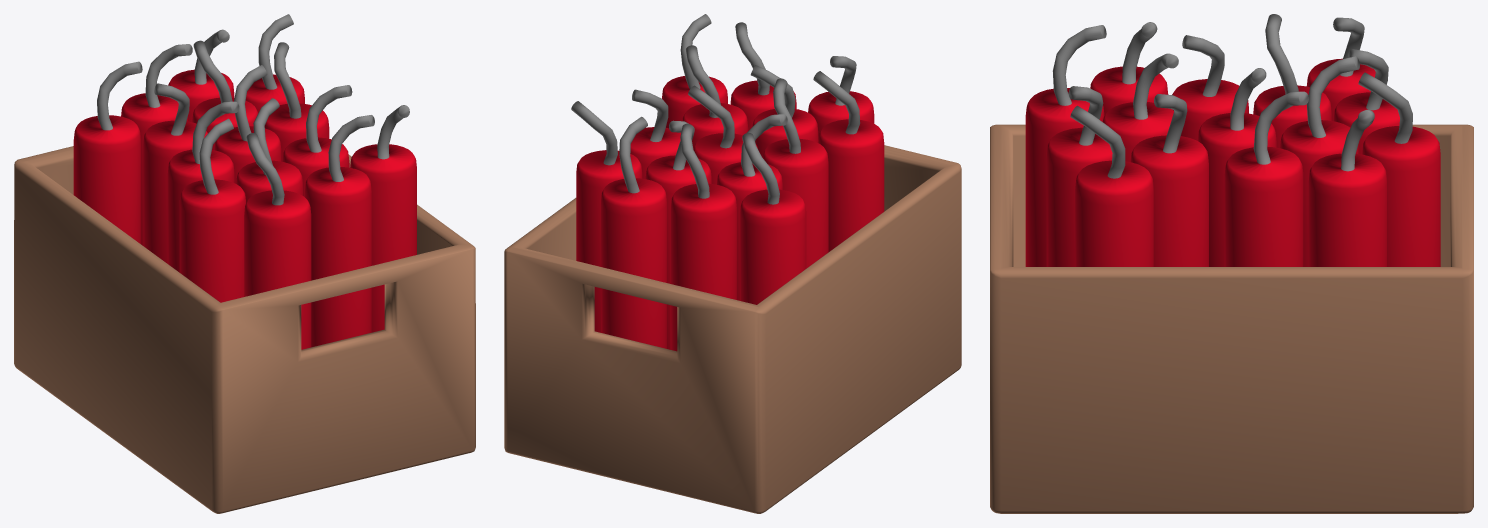
Rendered from OC_Dinamite_Transparent.fbx.
3 renders of one model, left to right at view 1: azimuth 30°, elevation 25°; view 2: azimuth 150°, elevation 25°; view 3: azimuth 270°, elevation 25°, orthographic. The views are drawn at different scales.
Parts seen in each view (by area): view 1: Cube, Cylinder.013, Cylinder.009, Cylinder.012, Cylinder.014, Cylinder.015, Cylinder.007, Cylinder.008, Cylinder.005, Cylinder.011, Cylinder.001, Cylinder (+4 smaller); view 2: Cube, Cylinder.004, Cylinder.005, Cylinder.014, Cylinder.009, Cylinder.008, Cylinder.003, Cylinder.007, Cylinder.002, Cylinder, Cylinder.001, Cylinder.015 (+4 smaller); view 3: Cube, Cylinder.001, Cylinder.003, Cylinder.004, Cylinder.015, Cylinder.011, Cylinder.012, Cylinder.013, Cylinder, Cylinder.002, Cylinder.008, Cylinder.010 (+4 smaller).
Part boxes in pixels (box(x1,y1,x2,y2)): Cube: box(14, 146, 475, 513); Cylinder.013: box(305, 115, 374, 347); Cylinder.009: box(179, 118, 245, 302); Cylinder.012: box(244, 133, 311, 349); Cylinder.014: box(73, 61, 142, 243); Cylinder.015: box(350, 105, 416, 332); Cylinder.007: box(143, 83, 207, 263); Cylinder.008: box(167, 101, 239, 272); Cylinder.005: box(121, 44, 192, 245); Cylinder.011: box(282, 85, 352, 196); Cylinder.001: box(264, 42, 329, 161); Cylinder: box(214, 65, 281, 183); Cube: box(504, 145, 961, 513); Cylinder.004: box(601, 116, 666, 348); Cylinder.005: box(670, 123, 736, 351); Cylinder.014: box(740, 133, 806, 304); Cylinder.009: box(813, 71, 884, 251); Cylinder.008: box(763, 78, 828, 268); Cylinder.003: box(571, 101, 642, 332); Cylinder.007: box(716, 114, 787, 300); Cylinder.002: box(645, 120, 711, 349); Cylinder: box(688, 85, 757, 184); Cylinder.001: box(630, 89, 680, 178); Cylinder.015: box(662, 14, 727, 128); Cube: box(990, 124, 1473, 513); Cylinder.001: box(1224, 91, 1308, 266); Cylinder.003: box(1308, 109, 1386, 266); Cylinder.004: box(1358, 72, 1440, 266); Cylinder.015: box(1070, 105, 1153, 266); Cylinder.011: box(1130, 94, 1208, 266); Cylinder.012: box(1025, 25, 1106, 266); Cylinder.013: box(1046, 86, 1112, 266); Cylinder: box(1197, 68, 1276, 266); Cylinder.002: box(1280, 56, 1359, 266); Cylinder.008: box(1172, 35, 1248, 140); Cylinder.010: box(1102, 53, 1178, 161).
Bounding box in the file's own units: 265 × 318 × 360.
